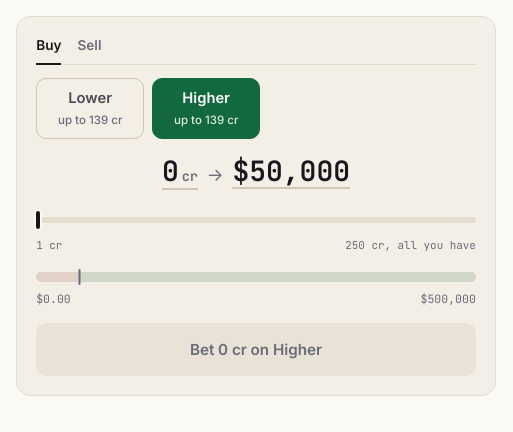
it: the quote at rest › the payoff line replaces the payout sentence inside the ticket
Replace the text in the field named "Credits to spend" with "25" at (170, 170), box [162,152,179,188]
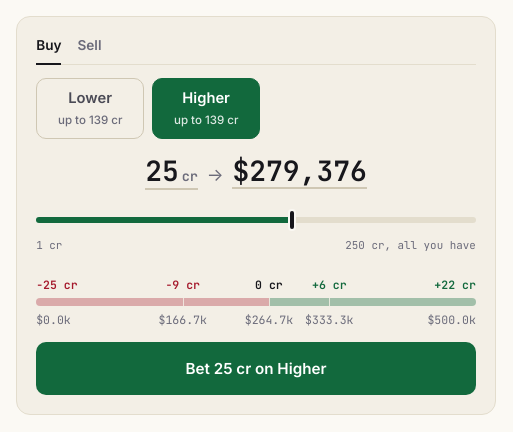
Now the element that starts with "-25 cr" shows "$500.0k", box [427,312,476,327]
